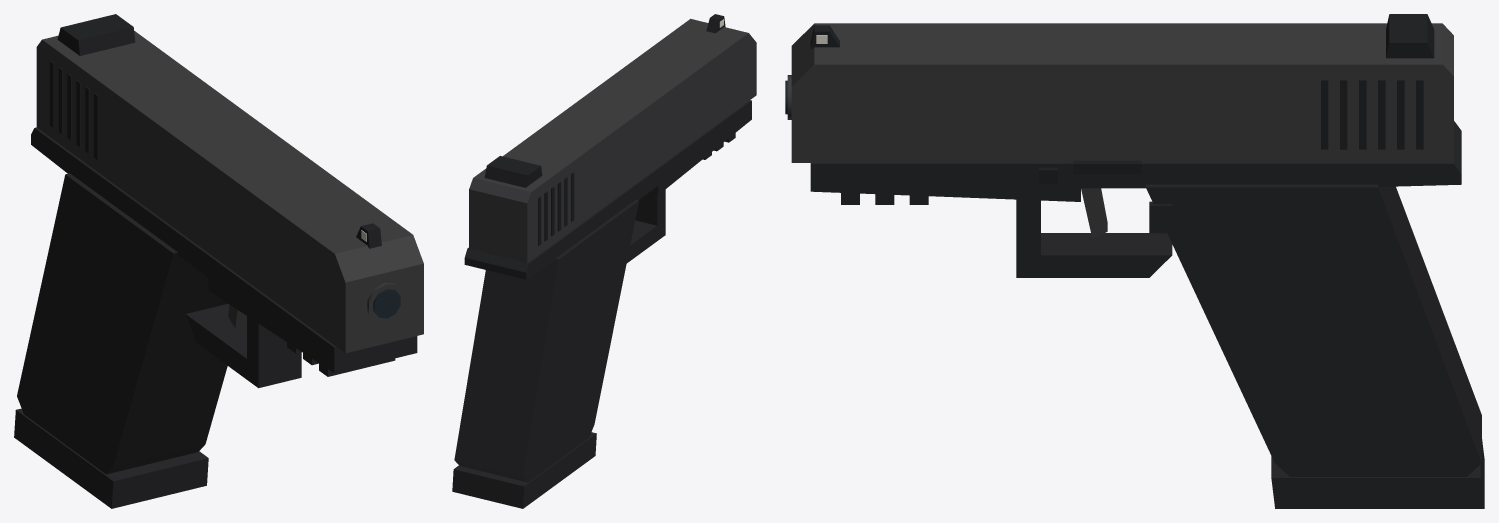
Rendered from pistol.glb.
The picture shows the model from 3 angles, left to right: view 1: azimuth 30°, elevation 25°; view 2: azimuth 150°, elevation 25°; view 3: azimuth 270°, elevation 25°; orthographic projection. The views are drawn at different scales.
Parts seen in each view (by area): view 1: pistol; view 2: pistol; view 3: pistol.
Boxes of the visible parts, <box> form: pistol: <box>14,14,423,508</box>; pistol: <box>452,14,756,508</box>; pistol: <box>785,14,1484,508</box>.
Size of the model in its own units: 0.0312 by 0.132 by 0.1836.
Materials: 1 (1 with a texture image).
